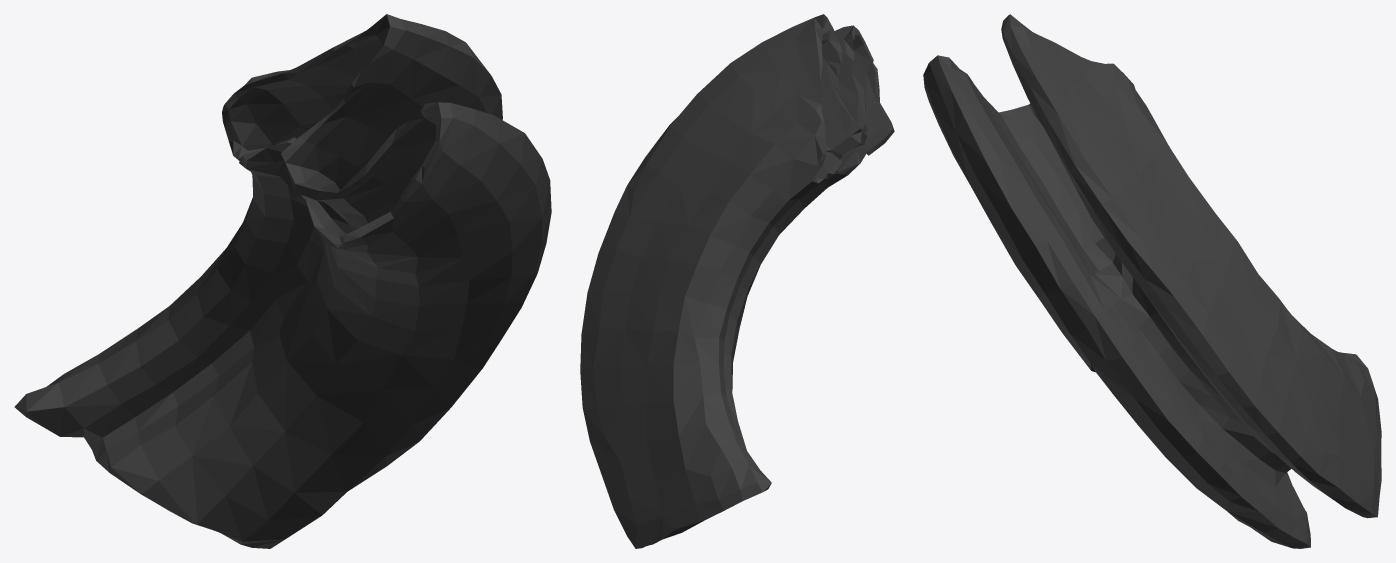
Rendered from Upper_PM.glb.
The picture shows the model from 3 angles, left to right: view 1: azimuth 30°, elevation 25°; view 2: azimuth 150°, elevation 25°; view 3: azimuth 270°, elevation 25°; orthographic projection. The views are drawn at different scales.
Visible parts, largest first — view 1: Upper_PM; view 2: Upper_PM; view 3: Upper_PM.
Part boxes in pixels (bbox=[...]): Upper_PM: bbox=[14, 14, 551, 548]; Upper_PM: bbox=[580, 14, 894, 548]; Upper_PM: bbox=[923, 14, 1381, 548].
Size of the model in its own units: 0.5161 by 0.9222 by 0.7499.
Materials: 1 (1 with a texture image).
